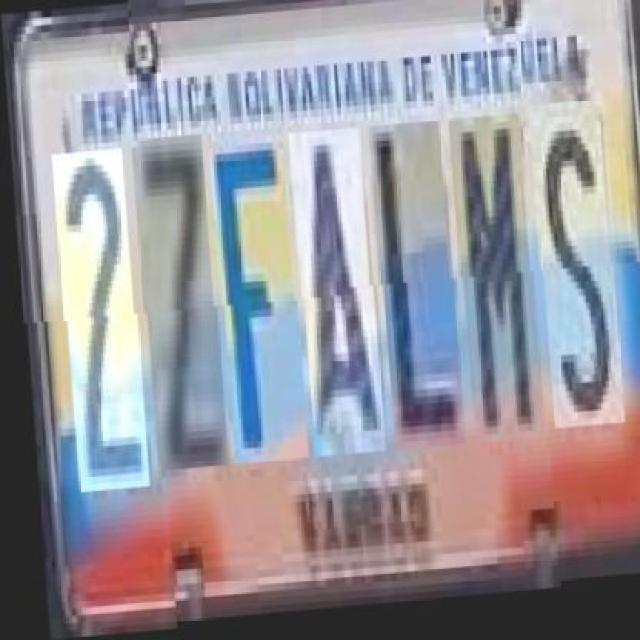2: (51, 143, 142, 486)
a: (290, 134, 378, 461)
f: (208, 132, 302, 468)
l: (369, 129, 458, 456)
m: (449, 123, 538, 451)
s: (530, 117, 618, 445)
z: (132, 137, 222, 474)
